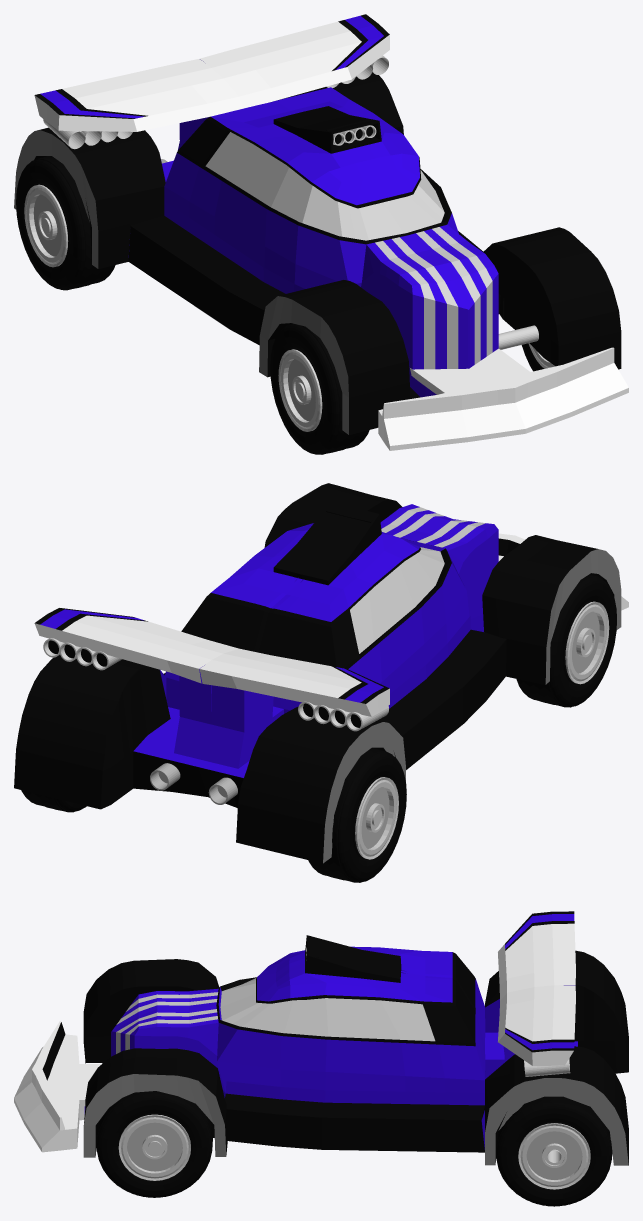
File: CR-MINI-6A.fbx
3 renders of one model, top to bottom at view 1: azimuth 30°, elevation 25°; view 2: azimuth 150°, elevation 25°; view 3: azimuth 270°, elevation 25°, orthographic. The views are drawn at different scales.
Parts seen in each view (by area): view 1: Body, WHEEL.001, WHEEL.004; view 2: Body, WHEEL.004, WHEEL.001, WHEEL.002; view 3: Body, WHEEL.002, WHEEL.003.
Boxes of the visible parts, left/top/right/bottom form: Body: left=14, top=14, right=628, bottom=450; WHEEL.001: left=270, top=323, right=538, bottom=454; WHEEL.004: left=16, top=156, right=115, bottom=290; Body: left=14, top=483, right=628, bottom=863; WHEEL.004: left=308, top=748, right=406, bottom=882; WHEEL.001: left=516, top=574, right=616, bottom=707; WHEEL.002: left=21, top=790, right=86, bottom=812; Body: left=14, top=911, right=628, bottom=1165; WHEEL.002: left=496, top=1096, right=612, bottom=1206; WHEEL.003: left=96, top=1091, right=212, bottom=1197.
Bounding box in the file's own units: 111 × 71.91 × 206.
